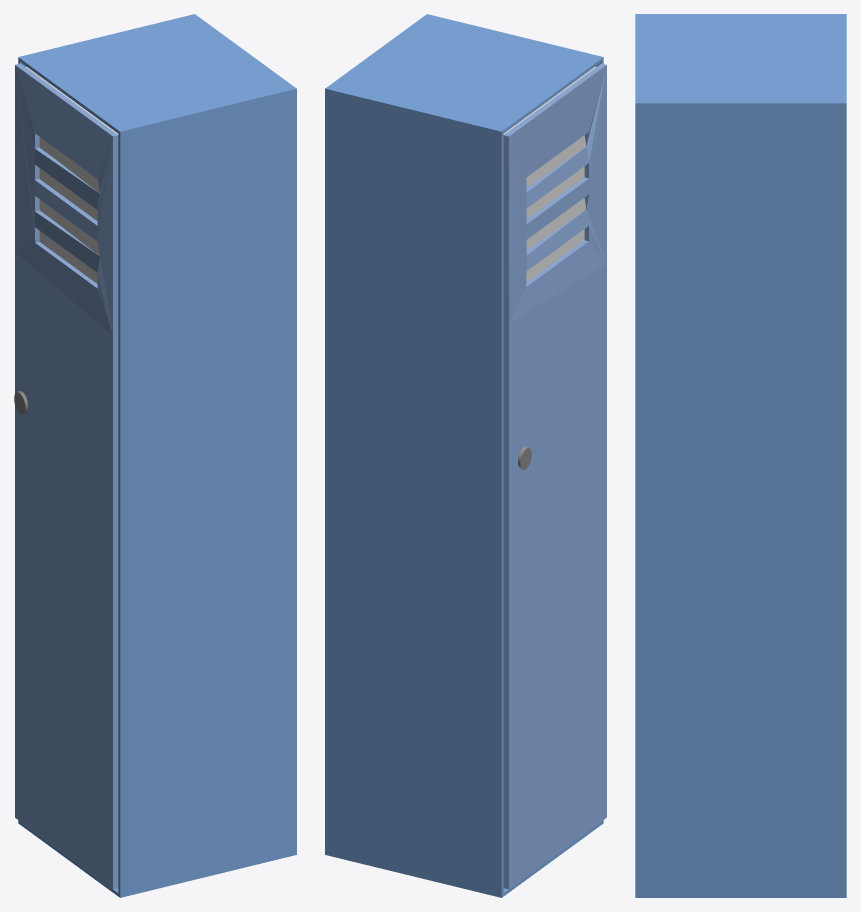
Rendered from locker.fbx.
The picture shows the model from 3 angles, left to right: view 1: azimuth 30°, elevation 25°; view 2: azimuth 150°, elevation 25°; view 3: azimuth 270°, elevation 25°; orthographic projection. The views are drawn at different scales.
Parts seen in each view (by area): view 1: Cube, Cube.004, Cube.002; view 2: Cube, Cube.004, Cube.002; view 3: Cube.
Part boxes in pixels (box(x1,y1,x2,y2)): Cube: box(18, 14, 296, 897); Cube.004: box(15, 63, 118, 889); Cube.002: box(26, 67, 118, 283); Cube: box(325, 14, 603, 897); Cube.004: box(503, 63, 606, 889); Cube.002: box(503, 66, 595, 282); Cube: box(635, 14, 846, 897).
Size of the model in its own units: 213 by 829 by 200.
